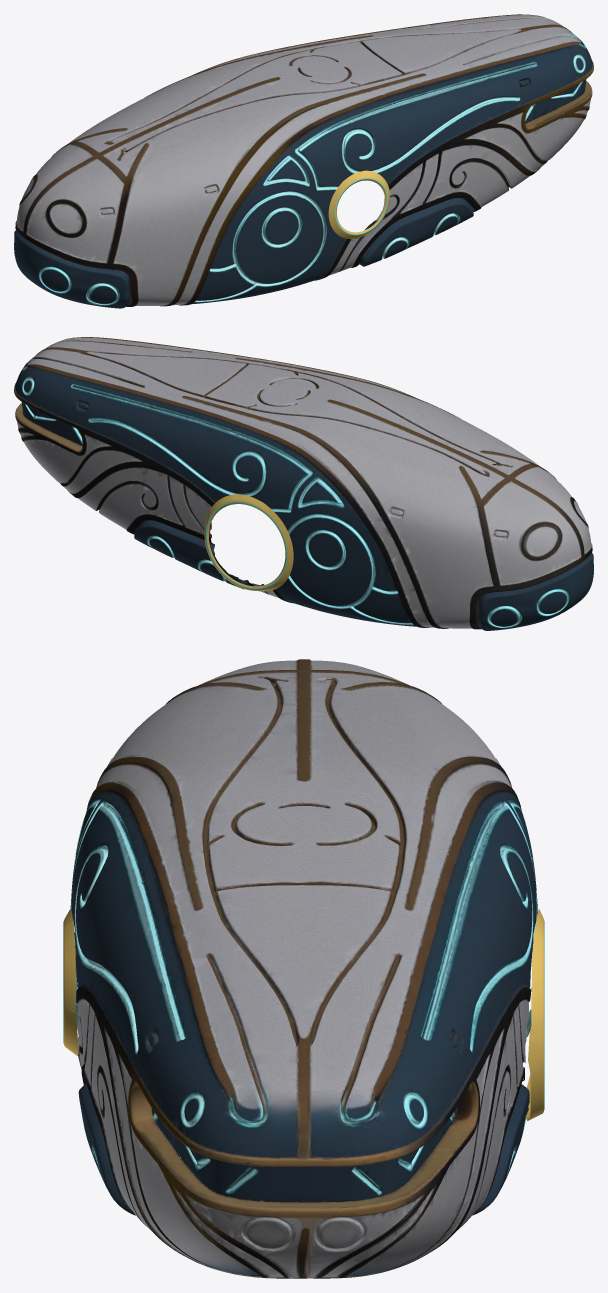
File: starpod_pod_v12.glb
The picture shows the model from 3 angles, top to bottom: view 1: azimuth 30°, elevation 25°; view 2: azimuth 150°, elevation 25°; view 3: azimuth 270°, elevation 25°; orthographic projection. The views are drawn at different scales.
Size of the model in its own units: 1.9 by 0.5814 by 0.713.
Materials: 2 (2 with a texture image).
